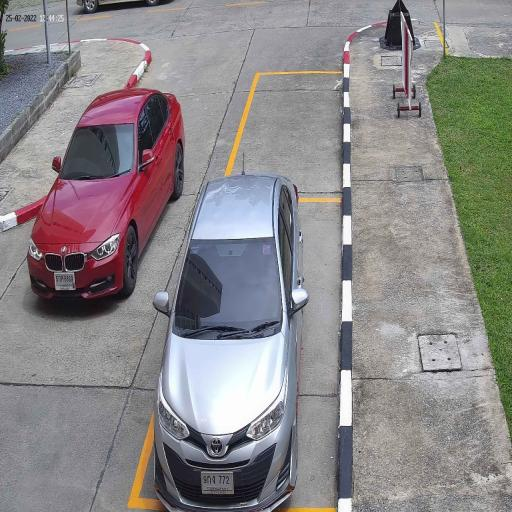car: (153, 172, 303, 512), (28, 88, 184, 306)
